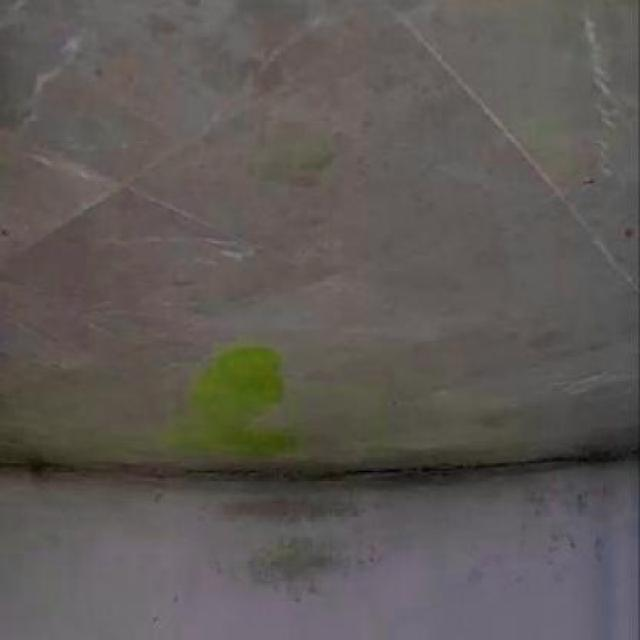spillage: (185, 344, 287, 449)
